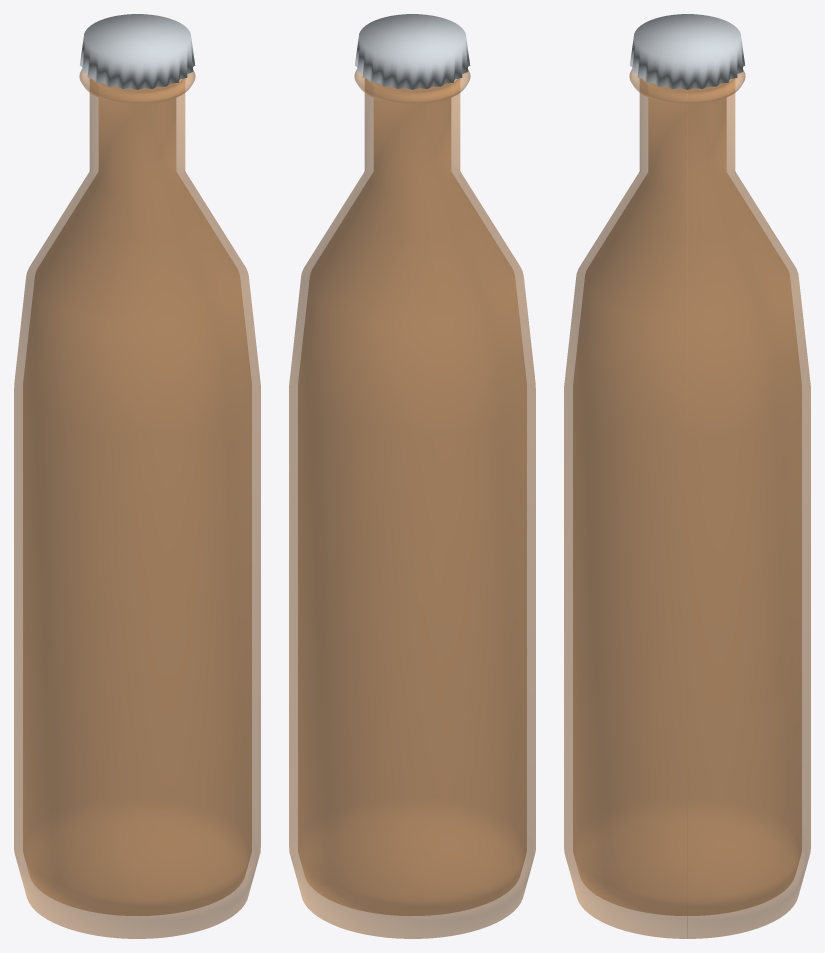
Rendered from innerscene-beer.glb.
3 views of the same model, side by side, from view 1: azimuth 30°, elevation 25°; view 2: azimuth 150°, elevation 25°; view 3: azimuth 270°, elevation 25° (orthographic).
Visible parts, largest first — view 1: Hollow amber bottle, Unbranded crimped crown cap, Bottle crown seat; view 2: Hollow amber bottle, Unbranded crimped crown cap, Bottle crown seat; view 3: Hollow amber bottle, Unbranded crimped crown cap, Bottle crown seat.
Part boxes in pixels (bbox=[...]): Hollow amber bottle: bbox=[14, 78, 260, 938]; Unbranded crimped crown cap: bbox=[79, 14, 195, 89]; Bottle crown seat: bbox=[79, 69, 195, 104]; Hollow amber bottle: bbox=[289, 78, 535, 938]; Unbranded crimped crown cap: bbox=[354, 14, 470, 89]; Bottle crown seat: bbox=[354, 69, 470, 104]; Hollow amber bottle: bbox=[564, 78, 810, 938]; Unbranded crimped crown cap: bbox=[629, 14, 745, 89]; Bottle crown seat: bbox=[629, 69, 745, 104].
Size of the model in its own units: 0.062 by 0.237 by 0.062.
Materials: 2 (2 with a texture image).
